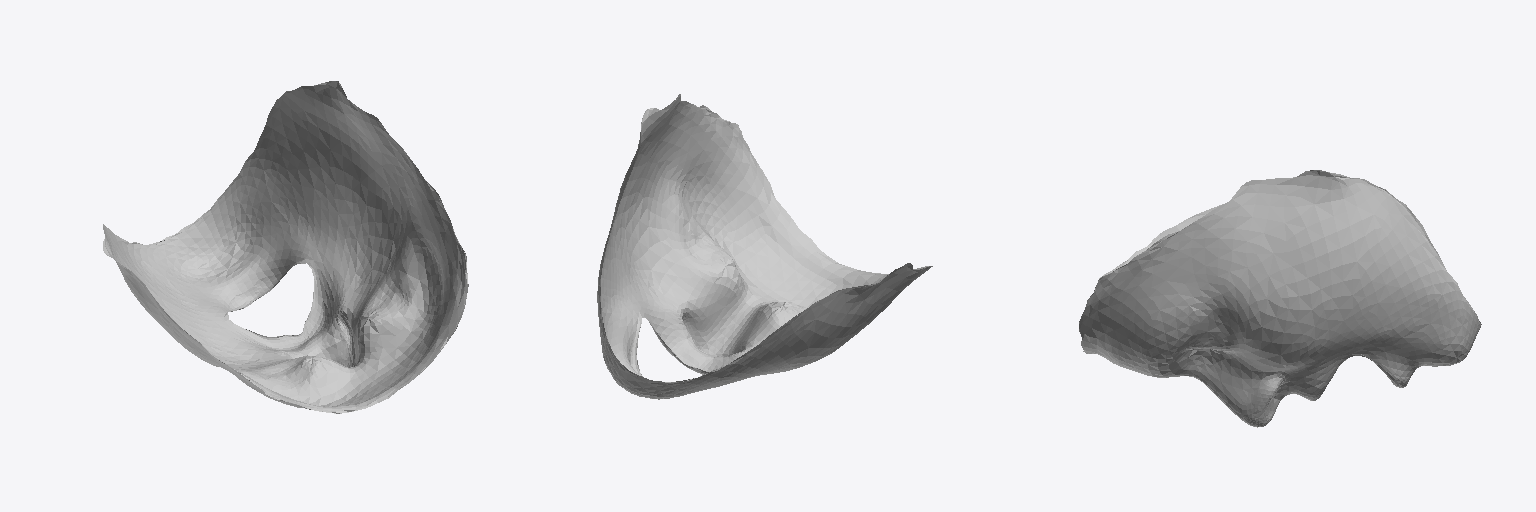
The model's file is face_gab_sfm60.obj.
3 views of the same model, side by side, from view 1: azimuth 30°, elevation 25°; view 2: azimuth 150°, elevation 25°; view 3: azimuth 270°, elevation 25° (orthographic).
Bounding box in the file's own units: 168 × 165 × 222.